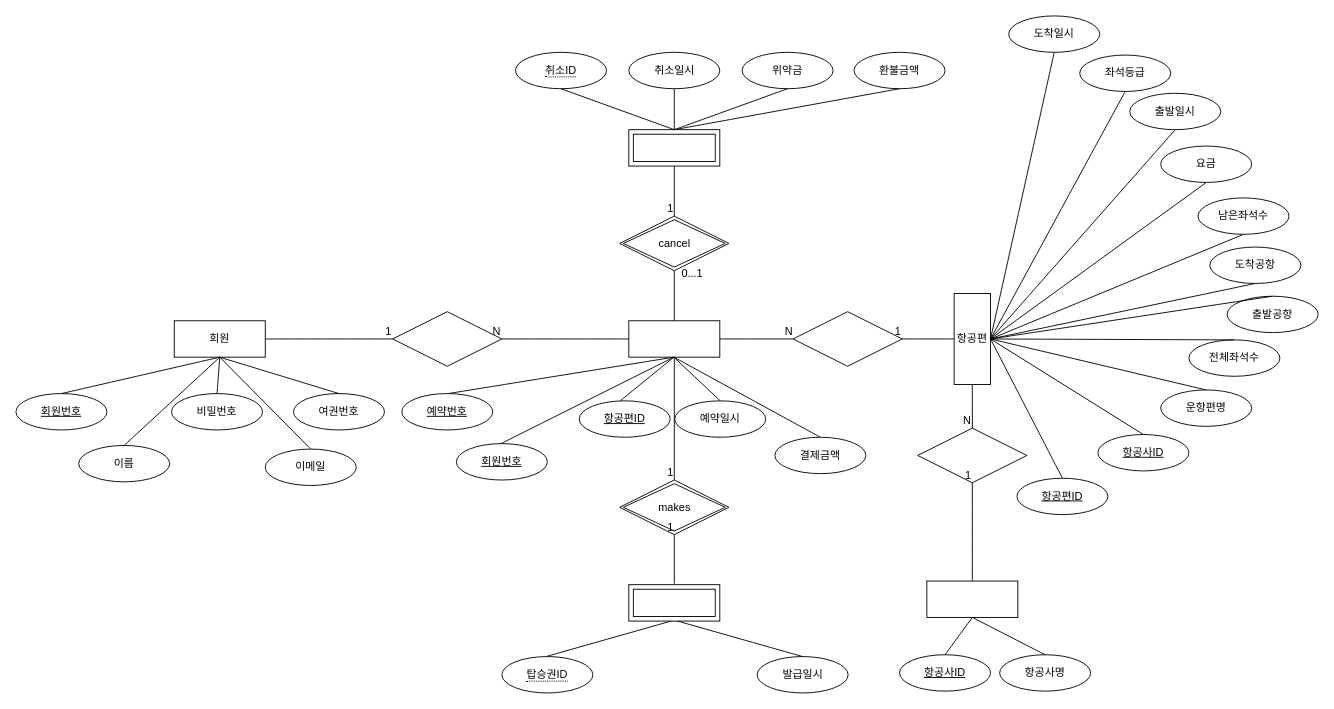
This 1334x709 diagram has some shape labels left out. Here are the shapes that lost their labels. From the top down, the centre of each, then its label:
At pixel 674 147: "취소".
At pixel 447 338: "reserve".
At pixel 674 338: "예약".
At pixel 847 338: "for".
At pixel 972 455: "has".
At pixel 674 602: "탑승권".
At pixel 972 598: "항공사".
